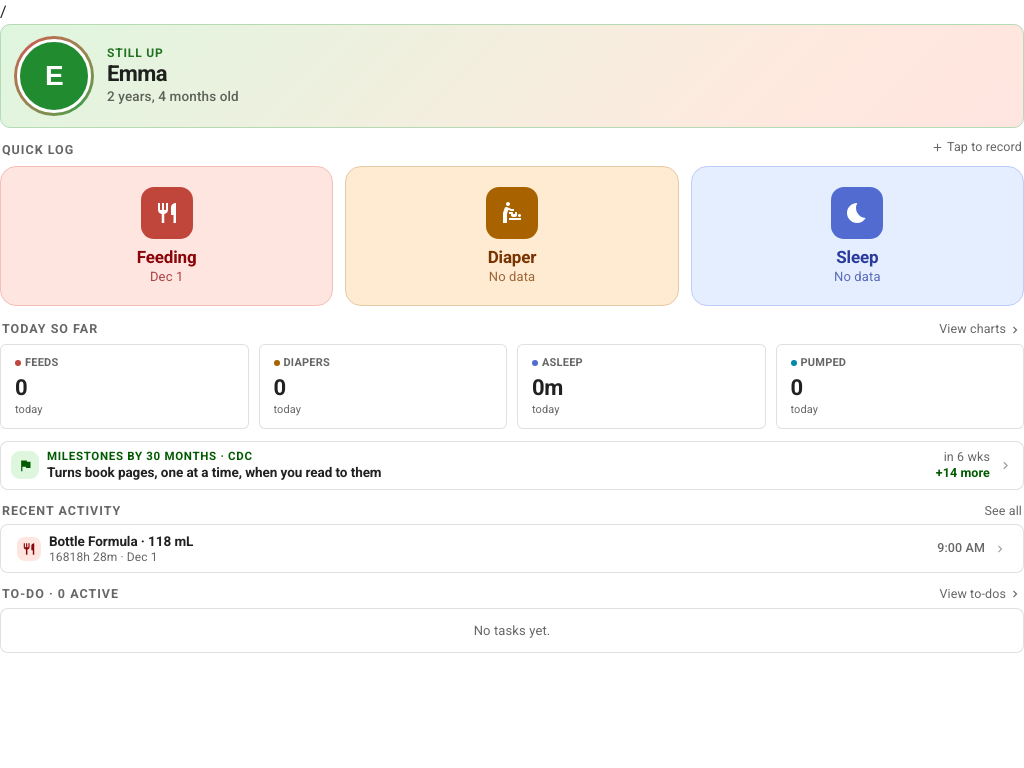
Scenario: tapping an activity entry › navigates from the dashboard's recent activity to the entry in edit mode
Click the button with aria-label "Edit Bottle Formula · 118 mL at". click: [121, 541]
box: [11, 528, 1013, 570]
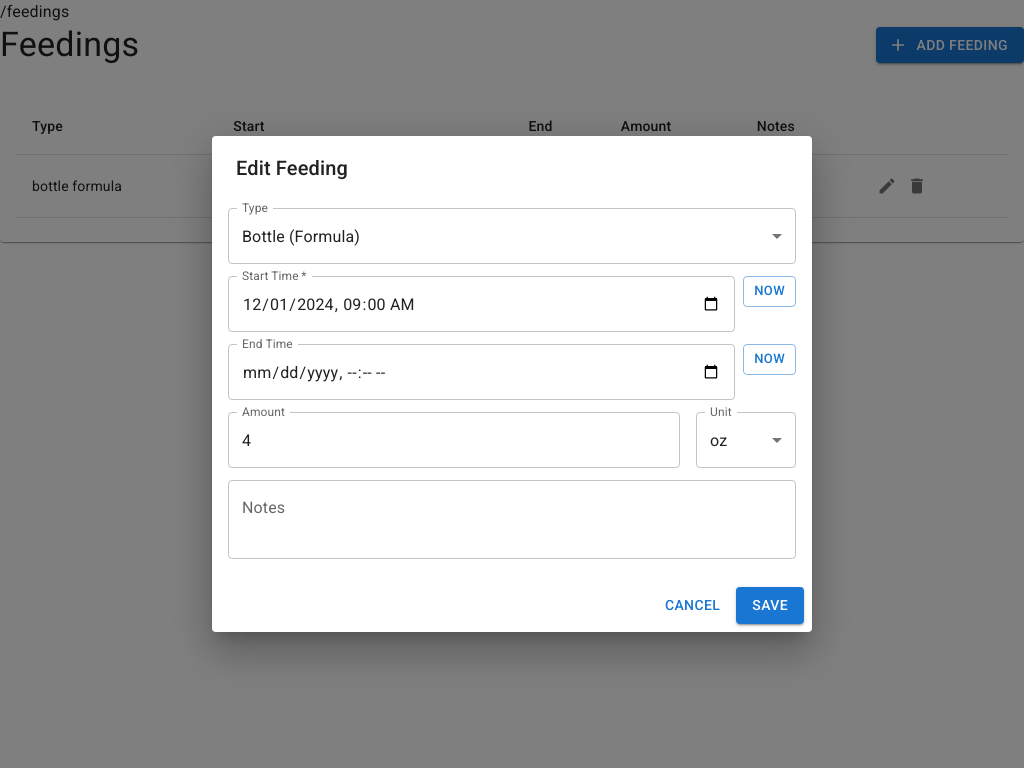
Expected: the heading "Edit Feeding" is shown, [236, 156, 348, 180]
